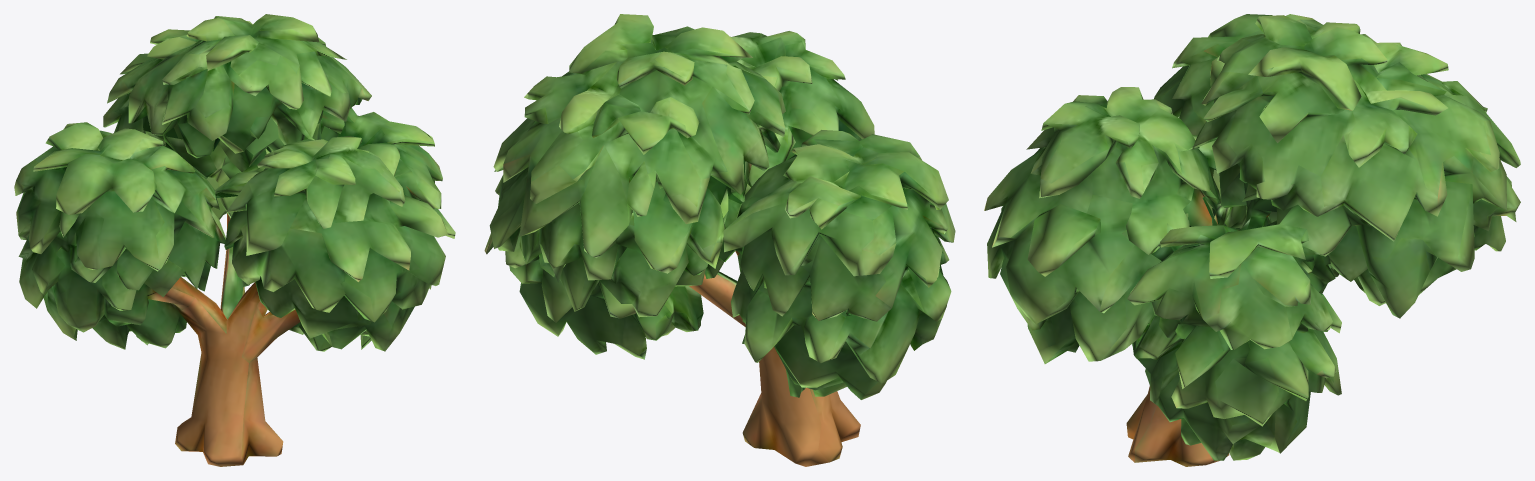
The model's file is orange.glb.
3 views of the same model, side by side, from view 1: azimuth 30°, elevation 25°; view 2: azimuth 150°, elevation 25°; view 3: azimuth 270°, elevation 25° (orthographic). The views are drawn at different scales.
Parts seen in each view (by area): view 1: textured_mesh.obj; view 2: textured_mesh.obj; view 3: textured_mesh.obj.
Boxes of the visible parts, bbox=[...] form: textured_mesh.obj: bbox=[14, 14, 455, 466]; textured_mesh.obj: bbox=[484, 14, 955, 466]; textured_mesh.obj: bbox=[984, 14, 1520, 466].
Size of what is drawn, in the model's own units: 3.15 by 2.89 by 3.1.
1 material, 1 textured.
